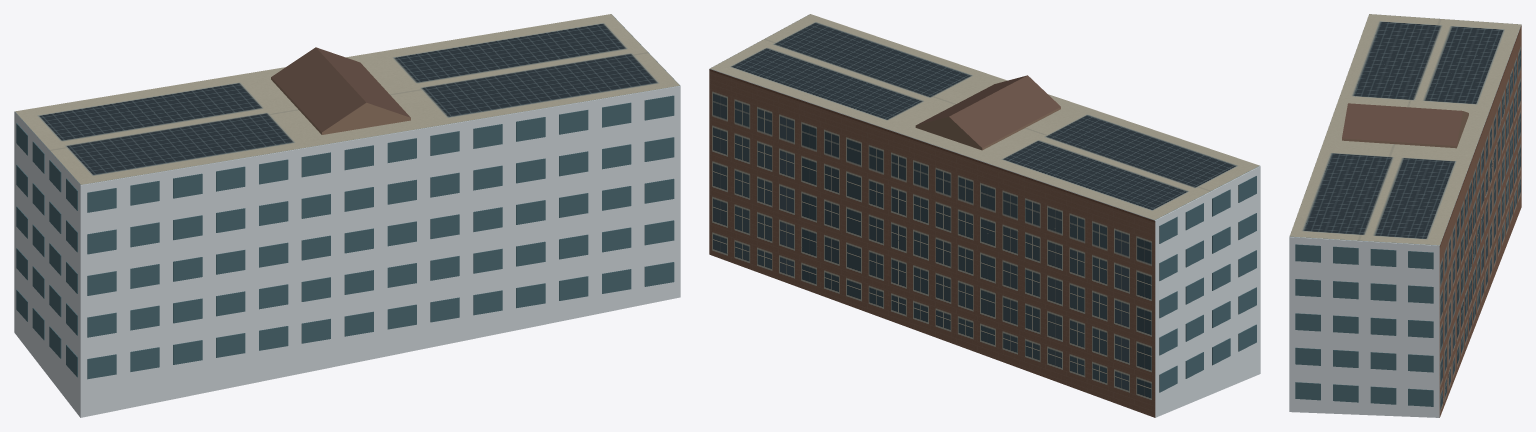
The model's file is intact.glb.
3 views of the same model, side by side, from view 1: azimuth 30°, elevation 25°; view 2: azimuth 150°, elevation 25°; view 3: azimuth 270°, elevation 25° (orthographic). The views are drawn at different scales.
Parts seen in each view (by area): view 1: SM_grad_Intact_00, SM_grad_Intact_01; view 2: SM_grad_Intact_00, SM_grad_Intact_01; view 3: SM_grad_Intact_00, SM_grad_Intact_01.
Part boxes in pixels (x1,y1,x2,y2): SM_grad_Intact_00: (14,14,680,417); SM_grad_Intact_01: (16,95,674,379); SM_grad_Intact_00: (709,14,1260,417); SM_grad_Intact_01: (1159,176,1256,392); SM_grad_Intact_00: (1289,14,1521,417); SM_grad_Intact_01: (1295,244,1433,406).
Bounding box in the file's own units: 2.2 × 0.9453 × 0.9314.
Materials: 7 (2 with a texture image).
